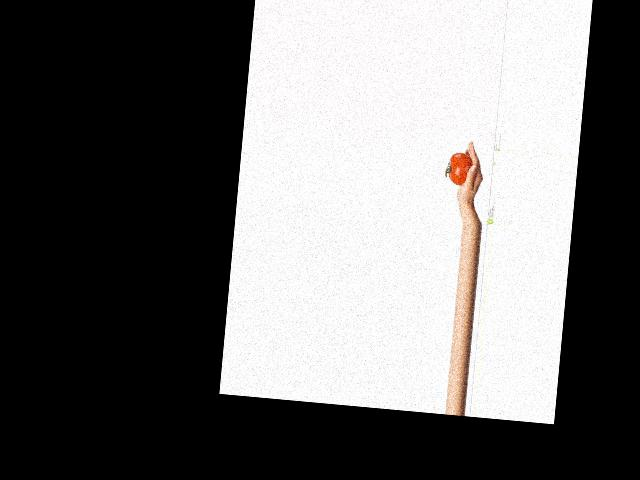tomato: (448, 151, 473, 186)
